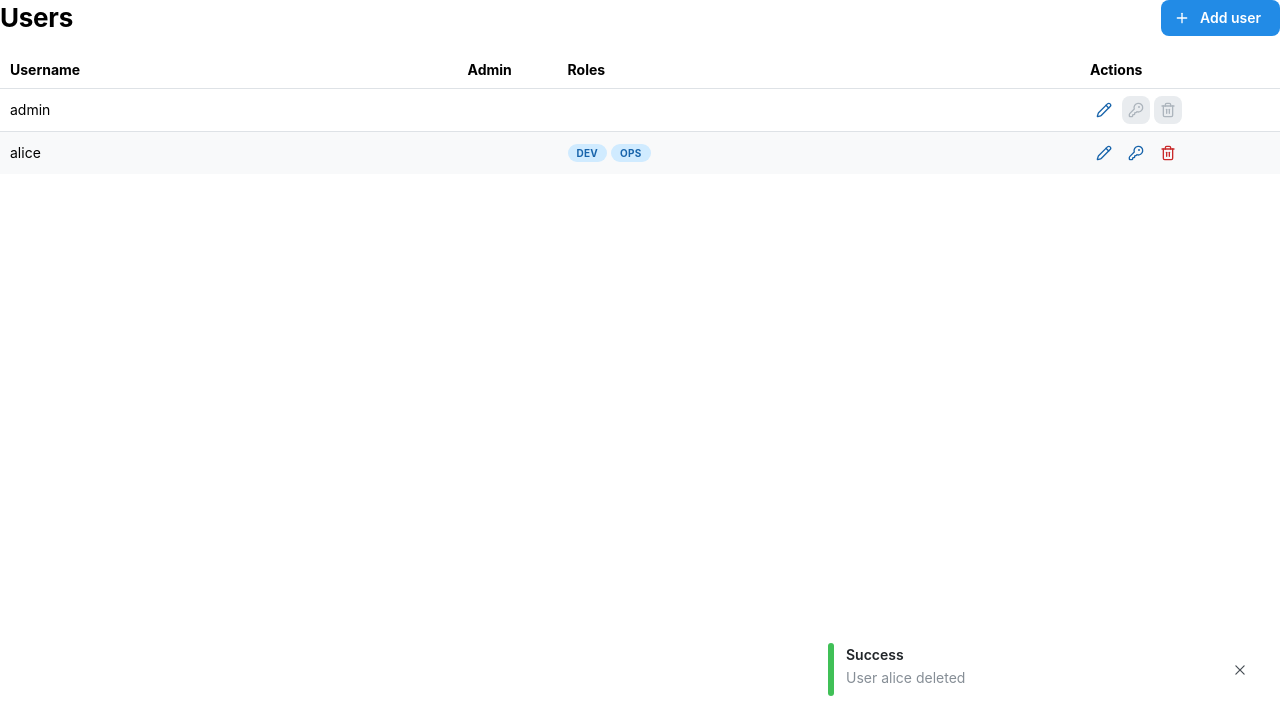
UsersPage › opens the Drawer in create mode with username + password fields when 'Add user' is clicked
Expected: the button named "Edit alice" is shown, [1090,139,1118,167]
Click the button "Add user" at (1220, 18), box [1161,0,1279,36]
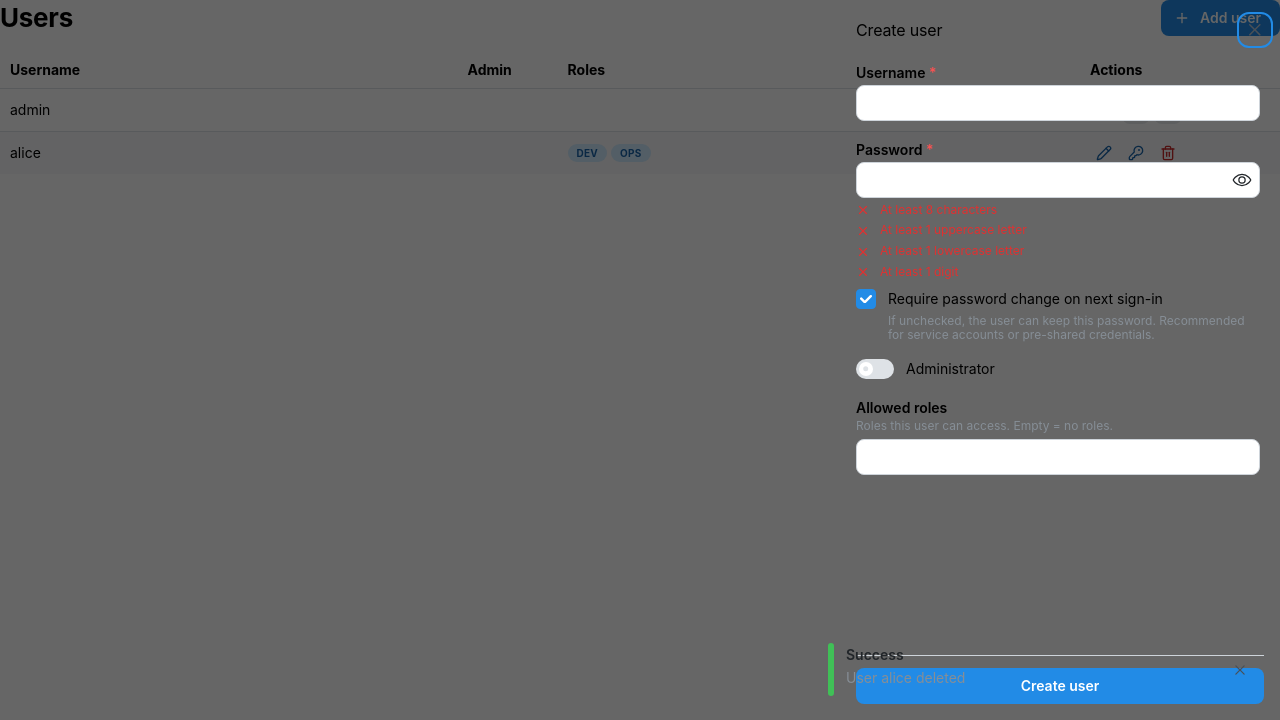
Expected: the dialog "Create user" is shown, [840,0,1279,719]
Expected: the field labelled "Username *" is enabled, [856,85,1260,121]
Expected: the password field labelled "Password *" is shown, [857,163,1259,197]
